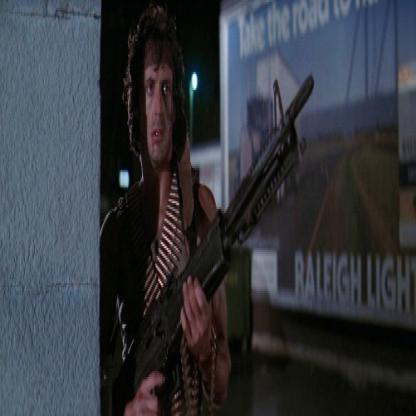Gun: (123, 31, 324, 410)
